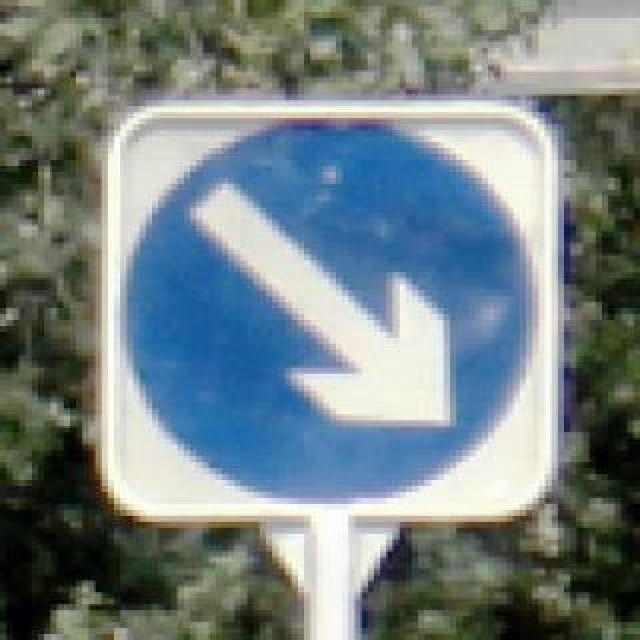keep right: (114, 114, 538, 498)
